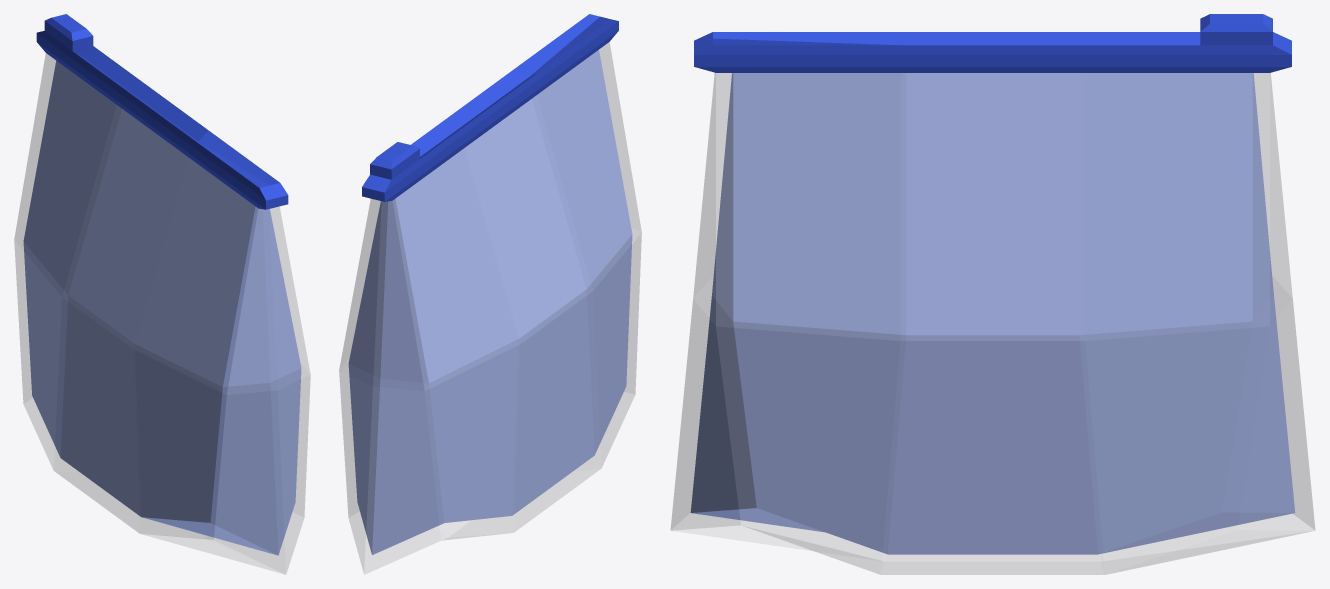
The model's file is PlasticZipBag_Edit.glb.
3 views of the same model, side by side, from view 1: azimuth 30°, elevation 25°; view 2: azimuth 150°, elevation 25°; view 3: azimuth 270°, elevation 25° (orthographic). The views are drawn at different scales.
Parts seen in each view (by area): view 1: Cube.003, Cube.004, Cube.005; view 2: Cube.003, Cube.004, Cube.005; view 3: Cube.003, Cube.004, Cube.005.
Part boxes in pixels (x1,y1,x2,y2): Cube.003: (14,53,310,574); Cube.004: (23,61,301,555); Cube.005: (36,14,288,209); Cube.003: (339,42,641,574); Cube.004: (348,50,632,554); Cube.005: (362,14,618,201); Cube.003: (670,73,1315,574); Cube.004: (690,73,1295,554); Cube.005: (694,14,1291,72).
Size of the model in its own units: 0.7646 by 2.31 by 2.49.
